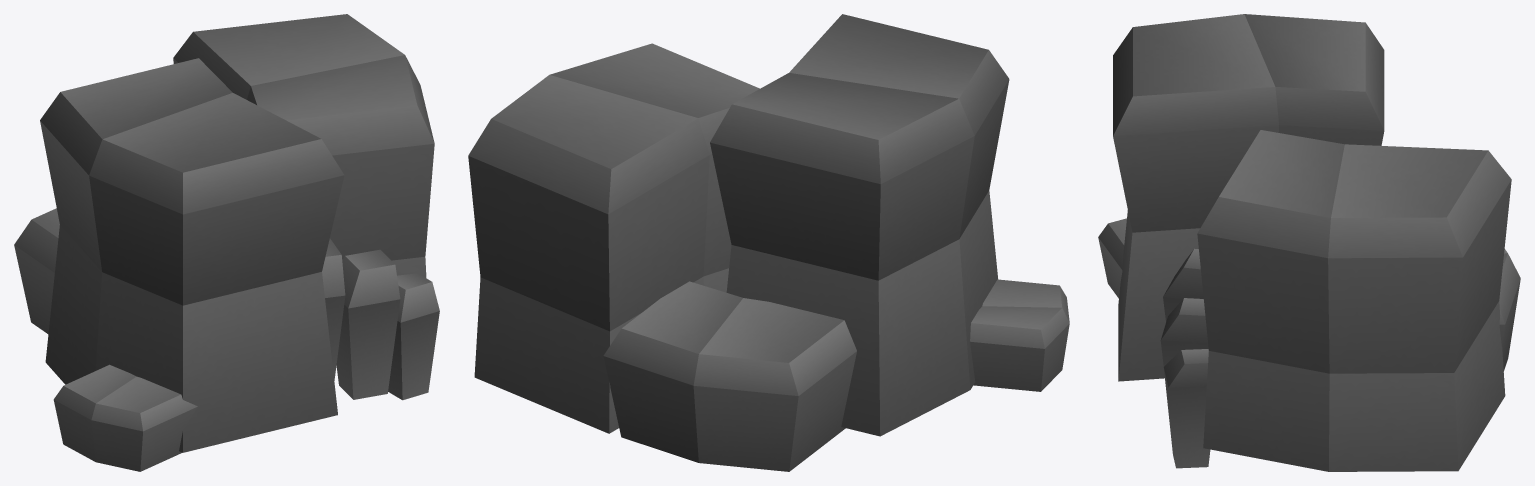
The model's file is pack02_rocks_21.fbx.
The picture shows the model from 3 angles, left to right: view 1: azimuth 30°, elevation 25°; view 2: azimuth 150°, elevation 25°; view 3: azimuth 270°, elevation 25°; orthographic projection. The views are drawn at different scales.
Parts seen in each view (by area): view 1: Rock Type6 01 mesh; view 2: Rock Type6 01 mesh; view 3: Rock Type6 01 mesh.
Part boxes in pixels (left/top/right/bottom): Rock Type6 01 mesh: left=14, top=14, right=439, bottom=471; Rock Type6 01 mesh: left=468, top=14, right=1069, bottom=471; Rock Type6 01 mesh: left=1098, top=14, right=1520, bottom=471.
Bounding box in the file's own units: 187 × 127 × 157.
1 material, 1 textured.
